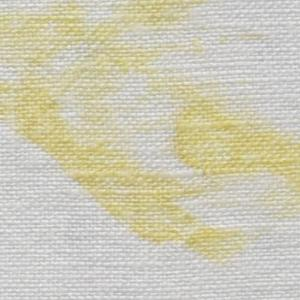Oil Stain: (1, 1, 300, 265)
